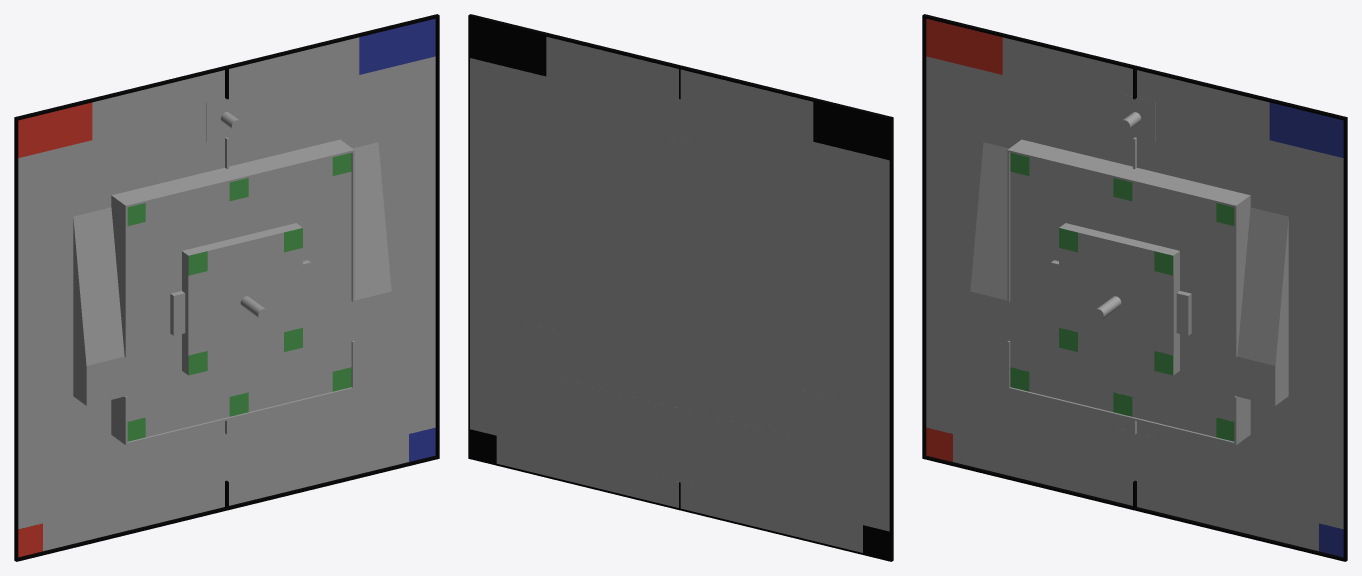
File: ABU_Robocon_2027_Gamefield.obj
The picture shows the model from 3 angles, left to right: view 1: azimuth 30°, elevation 25°; view 2: azimuth 150°, elevation 25°; view 3: azimuth 330°, elevation 25°; orthographic projection.
Parts seen in each view (by area): view 1: L1, Ground, L2, SkyBlock, Mustika; view 2: L1, Ground, L2, SkyBlock, Mustika; view 3: L1, Ground, L2, SkyBlock, Mustika.
Boxes of the visible parts, left/top/right/bottom form: L1: left=18, top=37, right=435, bottom=551; Ground: left=14, top=14, right=439, bottom=561; L2: left=182, top=223, right=302, bottom=375; SkyBlock: left=203, top=427, right=248, bottom=486; Mustika: left=206, top=93, right=244, bottom=141; L1: left=470, top=36, right=889, bottom=552; Ground: left=468, top=14, right=893, bottom=561; L2: left=622, top=215, right=736, bottom=362; SkyBlock: left=657, top=429, right=702, bottom=487; Mustika: left=660, top=94, right=698, bottom=143; L1: left=926, top=37, right=1343, bottom=551; Ground: left=922, top=14, right=1347, bottom=561; L2: left=1059, top=223, right=1179, bottom=375; SkyBlock: left=1113, top=427, right=1158, bottom=486; Mustika: left=1117, top=93, right=1155, bottom=141.
Bounding box in the file's own units: 1110 × 1110 × 170.
